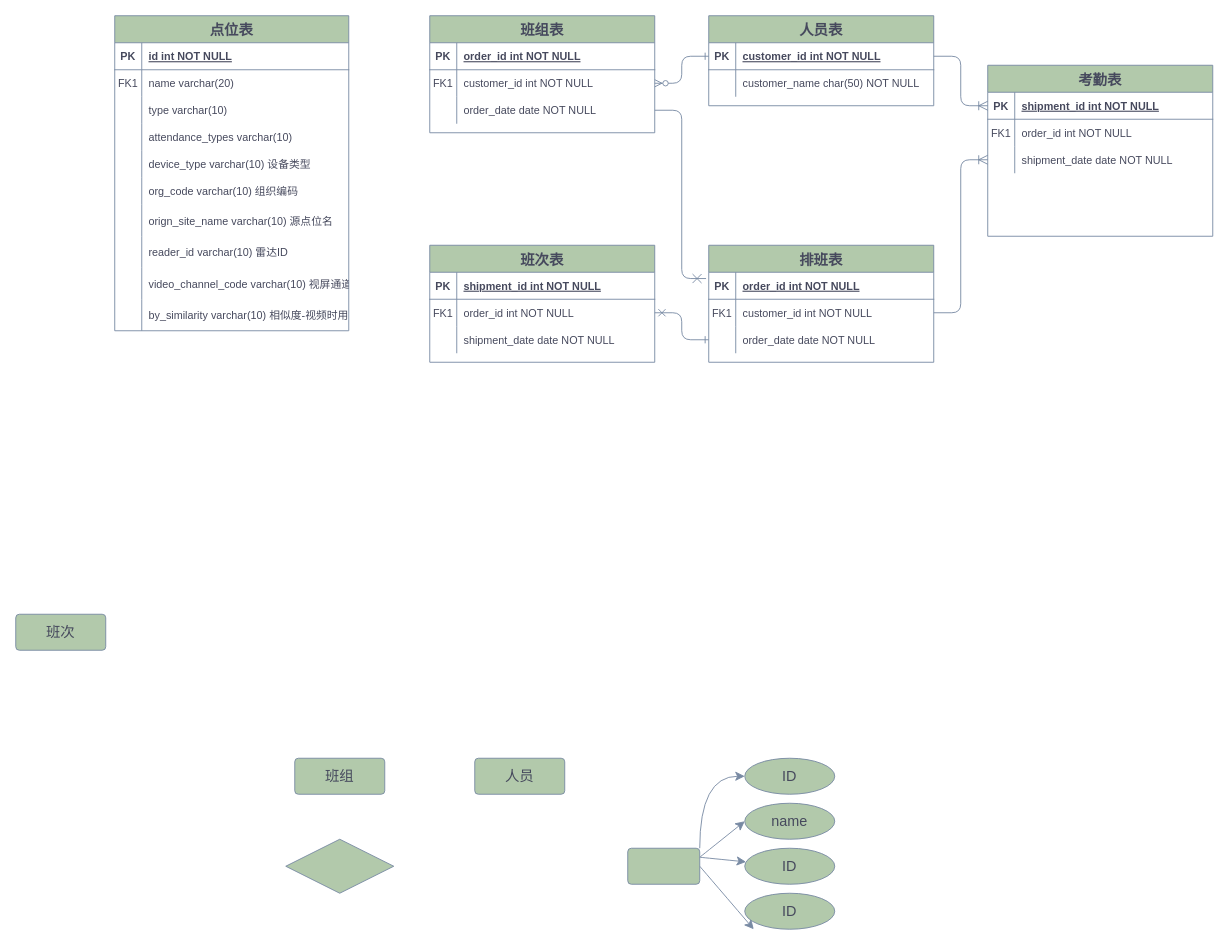
The diagram is 1229 pixels wide and 945 high, and some of its shapes have lost their labels. Here are the shapes that lost their labels. From the top down, the centre of each, then its label:
point 339,865: 排班
point 663,865: 考勤点
